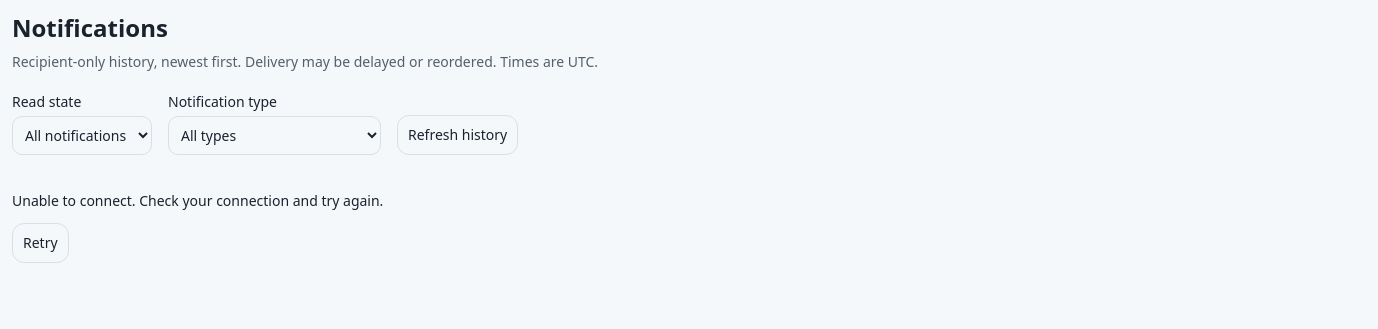
Test: shows empty worker-disabled guidance and retries failed notification history
Check: the message "Unable to connect. Check your connection and try again. Retry" is shown, box [12,191,383,263]
Click the button "Retry": (40, 243) [12,223,69,263]
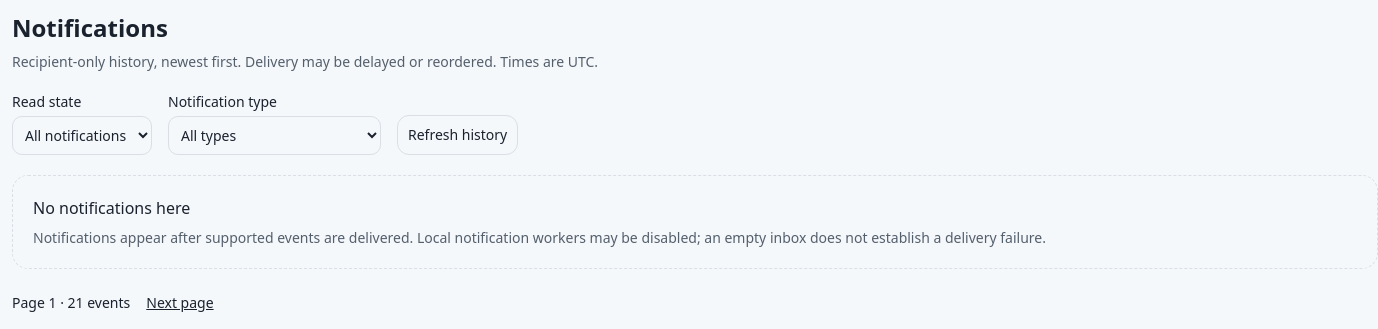
Check: the text "Local notification workers may be disabled" is shown, box [33,228,1046,247]
